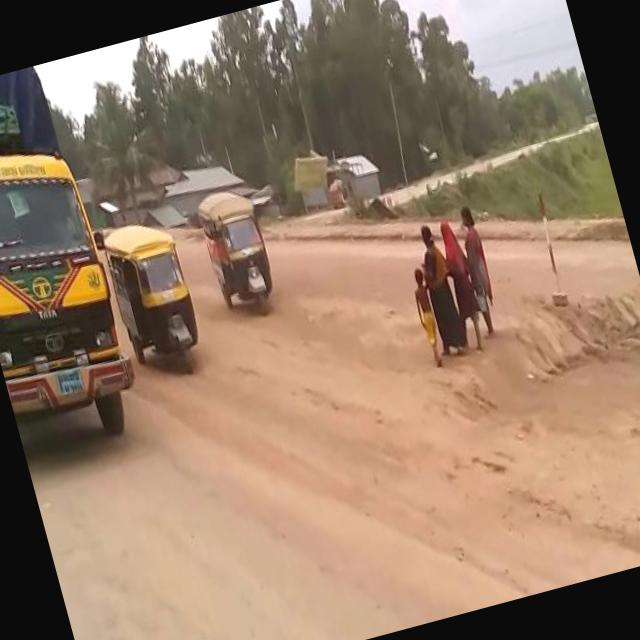motorcycle: (96, 206, 213, 388), (190, 179, 285, 322)
truck: (0, 61, 149, 463)
